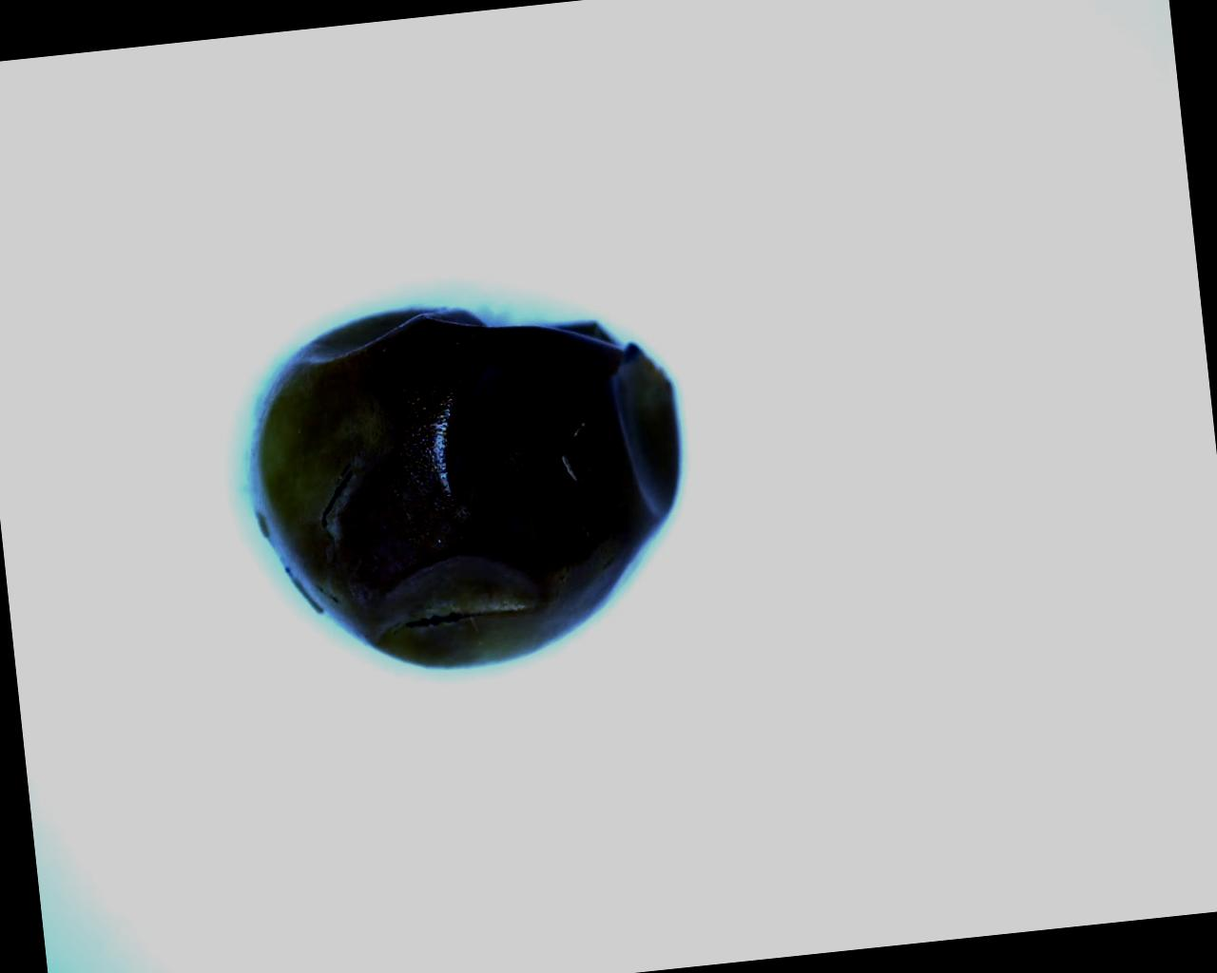Grape Rotten: (229, 278, 705, 689)
